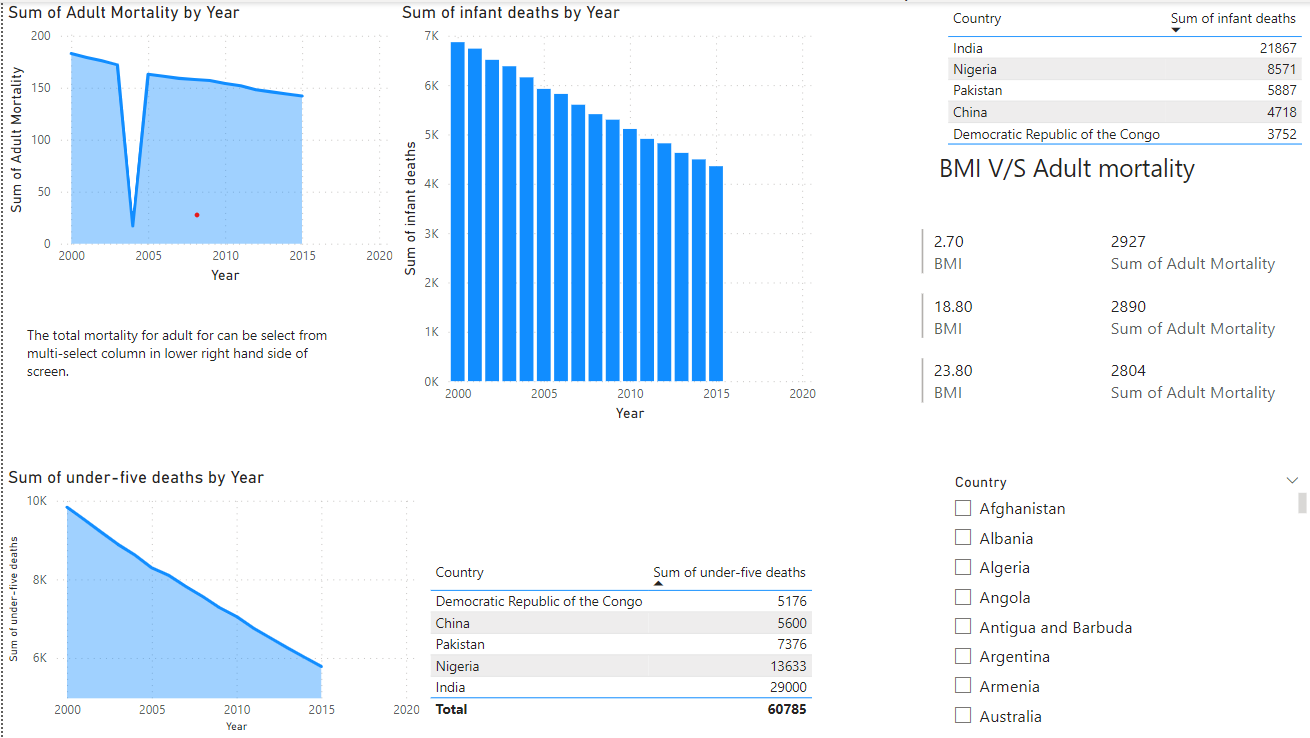

Layout of this report page (visuals, bound fields, positions):
{"tool":"powerbi","page":{"name":"Mortality_analysi","canvas":[1280,720],"ordinal":0},"visuals":[{"type":"areaChart","fields":{"Category":["in.Year"],"Y":["Sum(in.Adult Mortality)"]},"box":[0,0,385.6,279.9],"z":0},{"type":"textbox","box":[18.3,311.7,304.4,68.5],"z":1000},{"type":"tableEx","fields":{"Values":["in.Country","Sum(in.infant deaths)"]},"box":[918,0,361.8,250.6],"z":2000},{"type":"columnChart","fields":{"Category":["in.Year"],"Y":["Sum(in.infant deaths)"]},"box":[385.1,0,415.6,414.4],"z":3000},{"type":"areaChart","fields":{"Category":["in.Year"],"Y":["Sum(in.under-five deaths )"]},"box":[0,454.7,412,265.3],"z":4000},{"type":"tableEx","fields":{"Values":["in.Country","Sum(in.under-five deaths )"]},"box":[412,541.5,391.2,178.5],"z":5000},{"type":"slicer","fields":{"Values":["in.Country"]},"box":[918,456,361.8,264],"z":6000},{"type":"multiRowCard","fields":{"Values":["in. BMI ","Sum(in.Adult Mortality)"]},"box":[893.6,154,367.9,273.8],"z":7001},{"type":"textbox","box":[800.7,140.6,479.2,78.2],"z":7002}]}

Visuals, with their boxes in screenshot pixels (x1, y1, x2, y2), scaled from the page's 1280x720 canvas onto the 1310x738 screenshot:
areaChart - in.Year x Sum(in.Adult Mortality): bbox(0, 0, 395, 287)
textbox: bbox(19, 319, 330, 390)
tableEx - in.Country x Sum(in.infant deaths): bbox(940, 0, 1309, 257)
columnChart - in.Year x Sum(in.infant deaths): bbox(394, 0, 819, 425)
areaChart - in.Year x Sum(in.under-five deaths ): bbox(0, 466, 422, 737)
tableEx - in.Country x Sum(in.under-five deaths ): bbox(422, 555, 822, 737)
slicer - in.Country: bbox(940, 467, 1309, 737)
multiRowCard - in. BMI  x Sum(in.Adult Mortality): bbox(915, 158, 1291, 438)
textbox: bbox(819, 144, 1309, 224)
